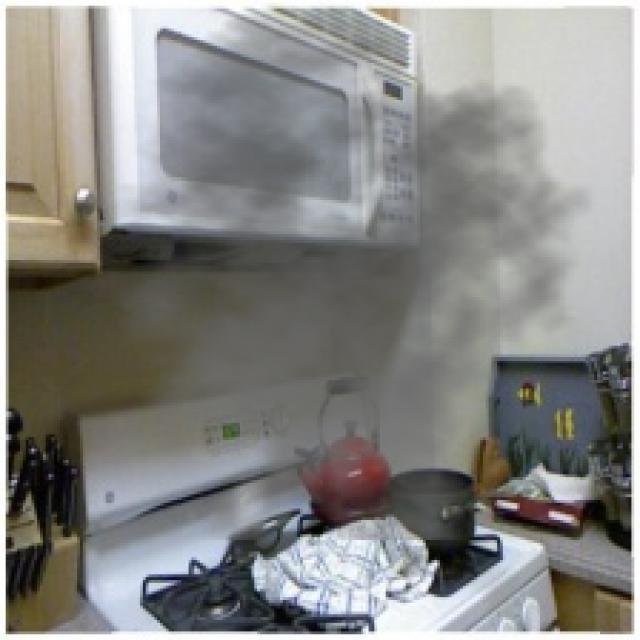Smoke: (57, 3, 597, 540)
